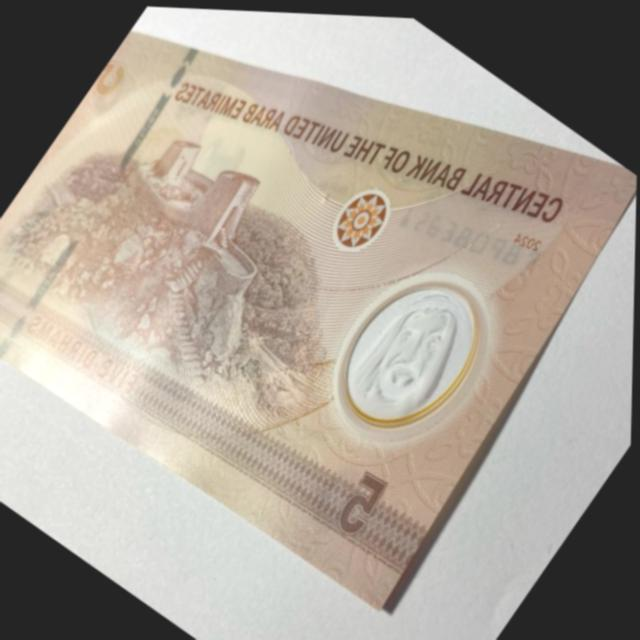5_AED: (0, 34, 637, 623)
